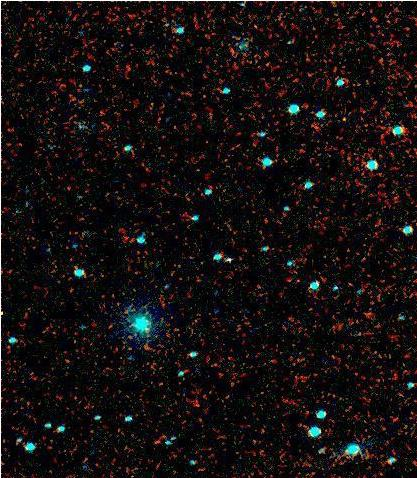star: (329, 103, 359, 133)
